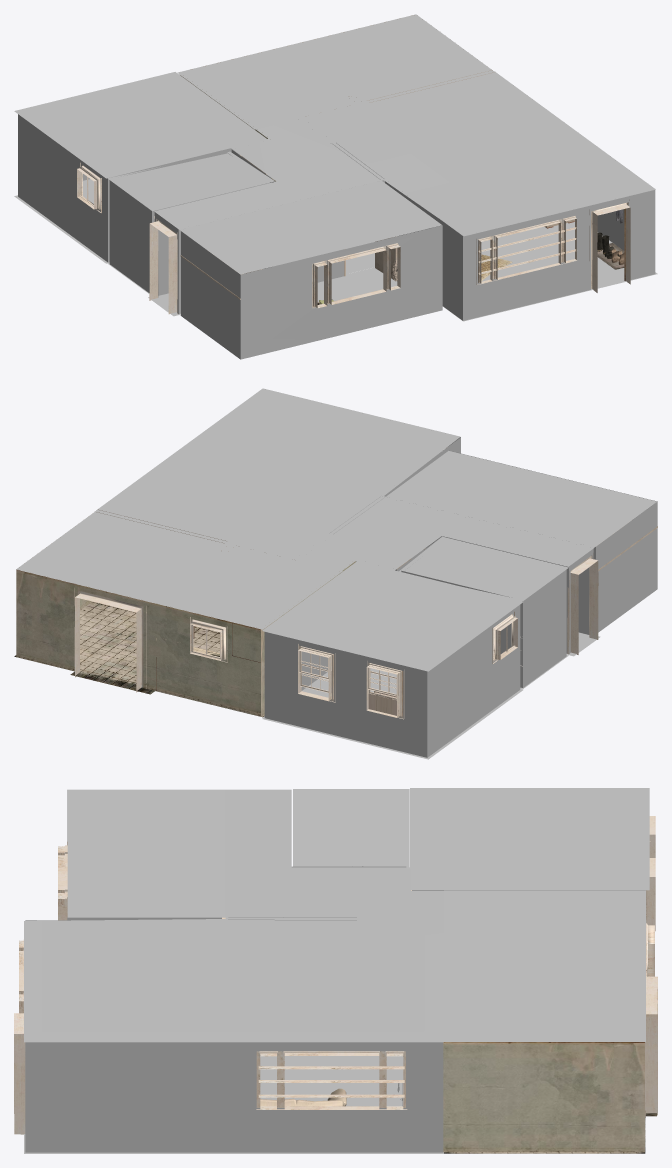
Rendered from mapaBase.fbx.
The picture shows the model from 3 angles, top to bottom: view 1: azimuth 30°, elevation 25°; view 2: azimuth 150°, elevation 25°; view 3: azimuth 270°, elevation 25°; orthographic projection. The views are drawn at different scales.
Visible parts, largest first — view 1: Tetos, Teto_Sala, Parede_Quarto_B, ParedesSala, Janelas e Portas, Parede_Quarto_A, Chao_Sala, Parede_Chão_Azulejo_Banheiro, Chão_Quarto_B, Sala_Tapete_Roupas, Chão_Quarto_A; view 2: Tetos, Teto_Sala, Parede_Quarto_A, Parede_Cozinha, Janelas e Portas, Parede_Quarto_B, Chão_Cozinha, Parede_Chão_Azulejo_Banheiro, ParedesSala, Chão_Quarto_A; view 3: Tetos, Teto_Sala, ParedesSala, Parede_Cozinha, Janelas e Portas, Chao_Sala, Sala_Sofa, Parede_Quarto_B.
Part boxes in pixels (x1=…): Tetos: x1=14, y1=14, x2=493, y2=274; Teto_Sala: x1=154, y1=71, x2=655, y2=236; Parede_Quarto_B: x1=181, y1=225, x2=442, y2=359; ParedesSala: x1=154, y1=143, x2=655, y2=320; Janelas e Portas: x1=77, y1=70, x2=630, y2=314; Parede_Quarto_A: x1=18, y1=114, x2=231, y2=262; Chao_Sala: x1=148, y1=221, x2=657, y2=321; Parede_Chão_Azulejo_Banheiro: x1=108, y1=170, x2=189, y2=293; Chão_Quarto_B: x1=180, y1=267, x2=397, y2=315; Sala_Tapete_Roupas: x1=597, y1=209, x2=624, y2=269; Chão_Quarto_A: x1=14, y1=179, x2=109, y2=263; Tetos: x1=16, y1=451, x2=656, y2=671; Teto_Sala: x1=96, y1=388, x2=593, y2=570; Parede_Quarto_A: x1=264, y1=605, x2=520, y2=757; Parede_Cozinha: x1=16, y1=561, x2=355, y2=716; Janelas e Portas: x1=74, y1=447, x2=657, y2=719; Parede_Quarto_B: x1=411, y1=450, x2=657, y2=632; Chão_Cozinha: x1=14, y1=601, x2=264, y2=717; Parede_Chão_Azulejo_Banheiro: x1=484, y1=569, x2=568, y2=689; ParedesSala: x1=329, y1=437, x2=593, y2=653; Chão_Quarto_A: x1=262, y1=668, x2=523, y2=759; Tetos: x1=67, y1=788, x2=649, y2=1041; Teto_Sala: x1=24, y1=789, x2=443, y2=1042; ParedesSala: x1=25, y1=866, x2=443, y2=1152; Parede_Cozinha: x1=443, y1=1042, x2=644, y2=1152; Janelas e Portas: x1=14, y1=816, x2=657, y2=1134; Chao_Sala: x1=24, y1=1056, x2=443, y2=1153; Sala_Sofa: x1=260, y1=1088, x2=346, y2=1106; Parede_Quarto_B: x1=67, y1=790, x2=221, y2=920.
Size of the model in its own units: 123374 by 24795 by 128595.
